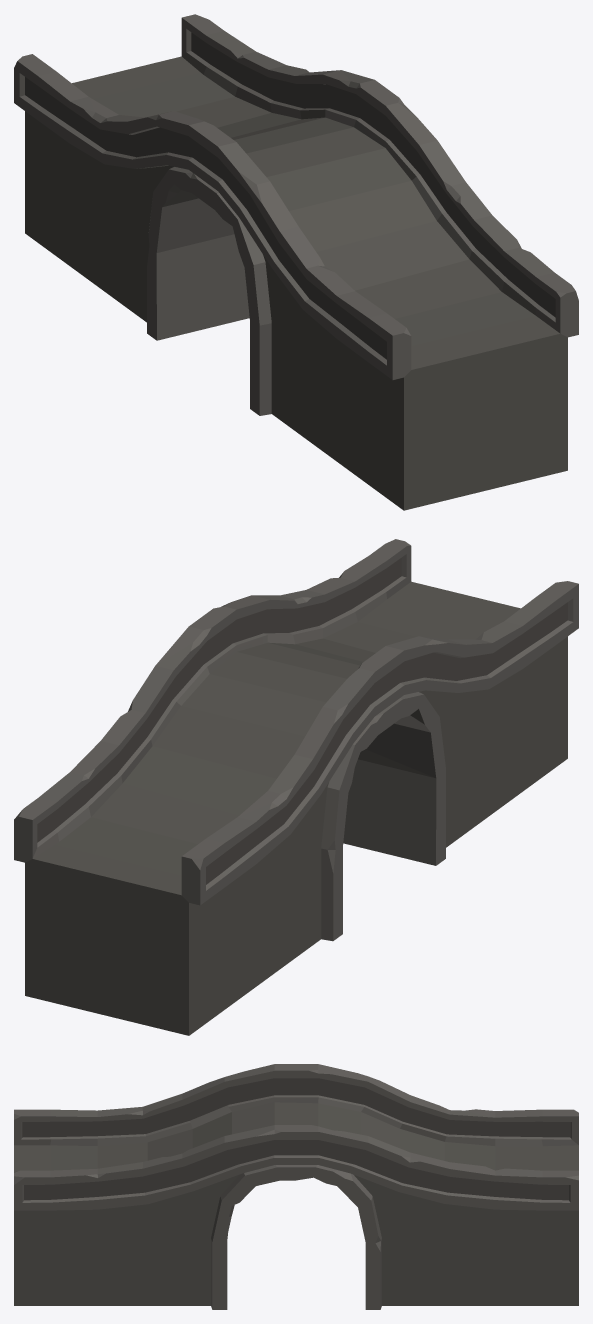
Rendered from env_bridge_stone.gltf.
3 views of the same model, one above another, from view 1: azimuth 30°, elevation 25°; view 2: azimuth 150°, elevation 25°; view 3: azimuth 270°, elevation 25° (orthographic). The views are drawn at different scales.
Parts seen in each view (by area): view 1: env_bridge_stone; view 2: env_bridge_stone; view 3: env_bridge_stone.
Part boxes in pixels (x1,y1,x2,y2): env_bridge_stone: (14,14,578,510); env_bridge_stone: (14,539,578,1035); env_bridge_stone: (14,1064,578,1309).
Bounding box in the file's own units: 5.68 × 6.96 × 20.
Materials: 1 (1 with a texture image).
